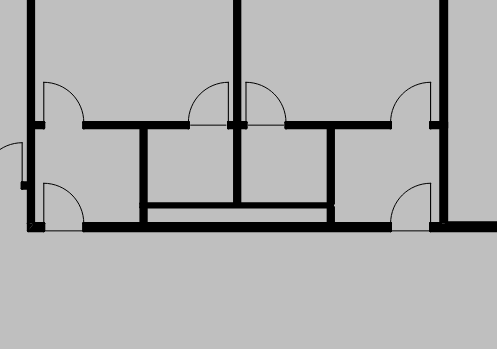door: (40, 180, 87, 237), (387, 181, 434, 236), (185, 76, 231, 131), (387, 79, 434, 131), (40, 79, 85, 131), (243, 79, 287, 131)
